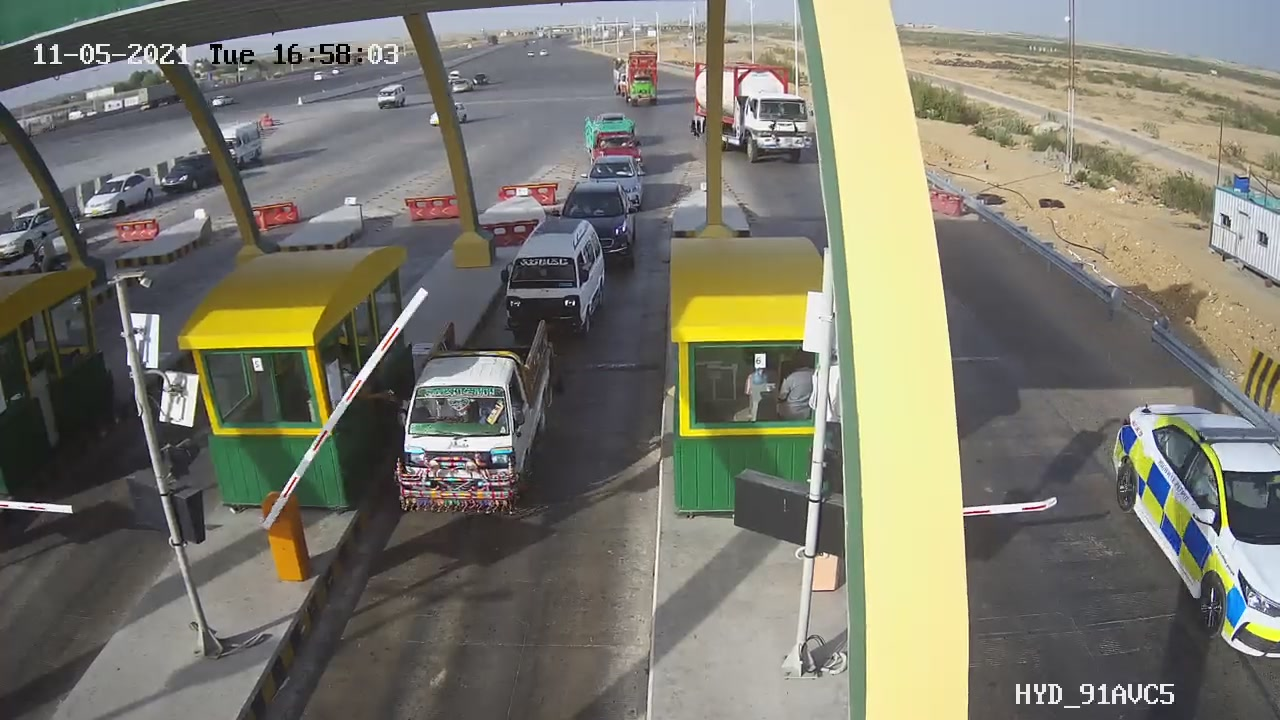F1: (386, 310, 564, 510), (487, 208, 619, 347)
